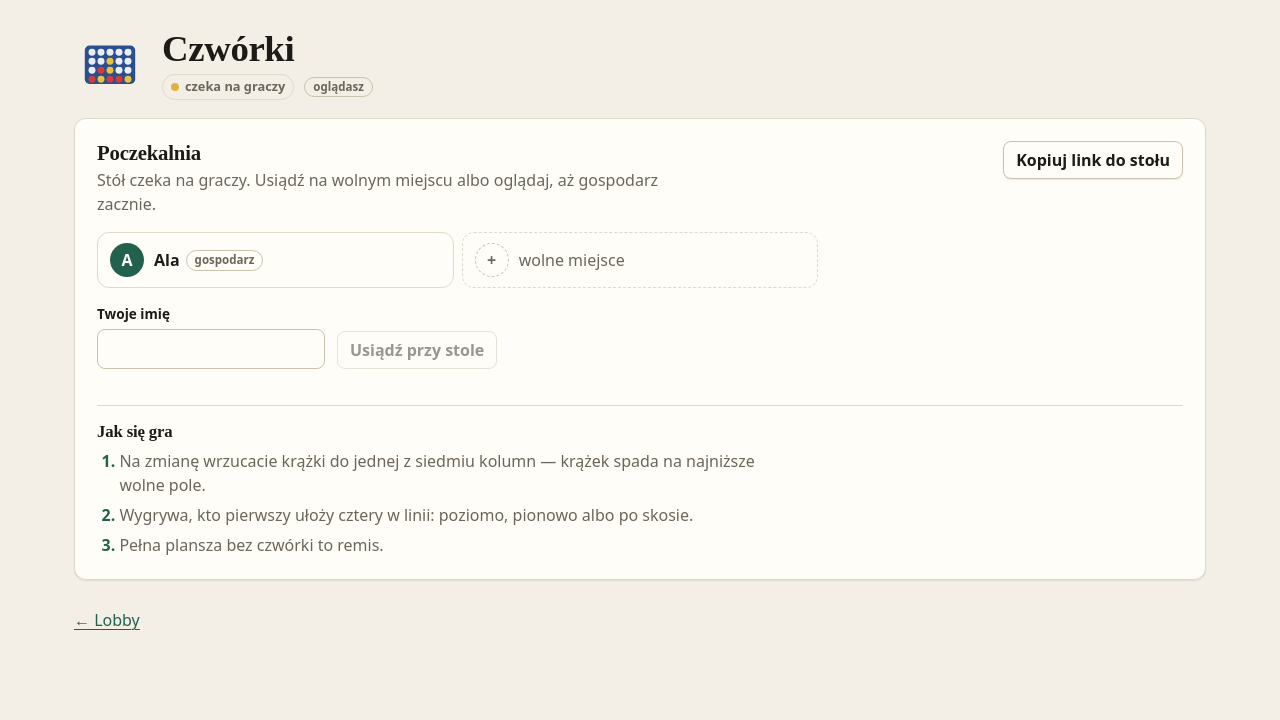
Test: sitting down when watching fails too › locks the join button until the server answers
This screenshot has width=1280, height=720.
Step 1. Type "Ola" into the field labelled "Twoje imię" → (211, 349), box [97,329,325,369]
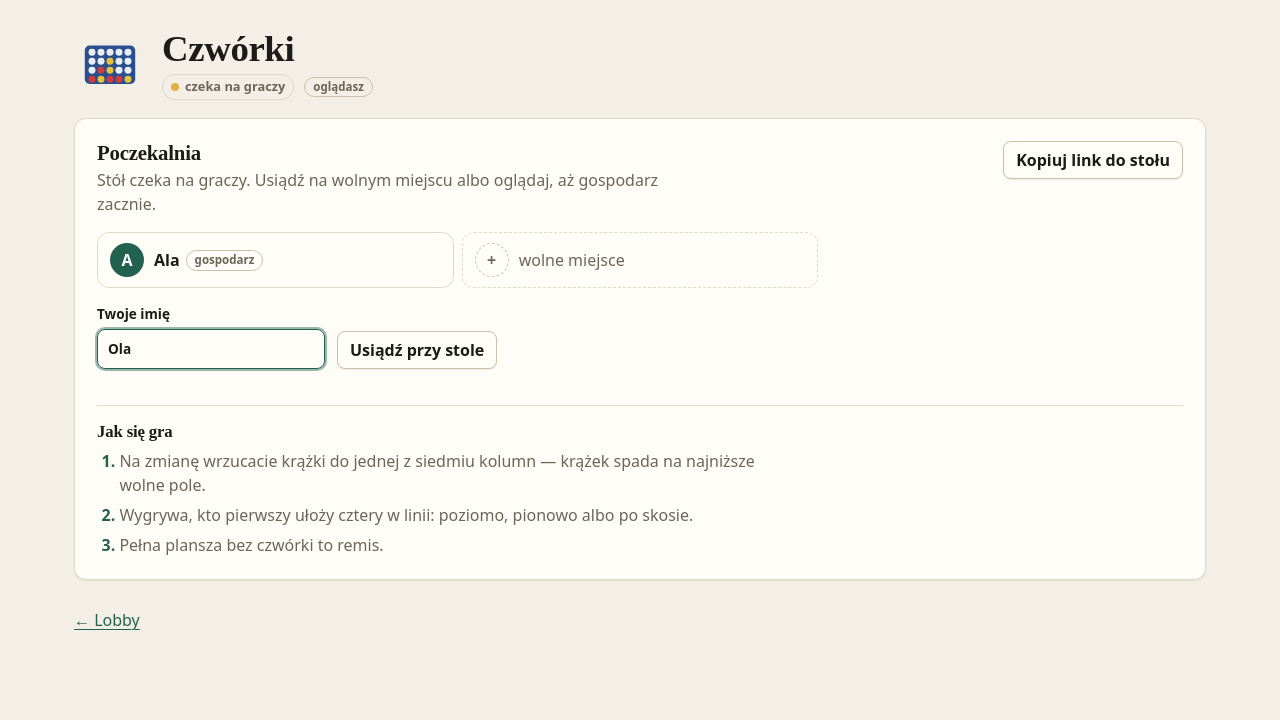
Step 2. Double-click the button "Usiądź przy stole" → (417, 350), box [337,331,497,369]
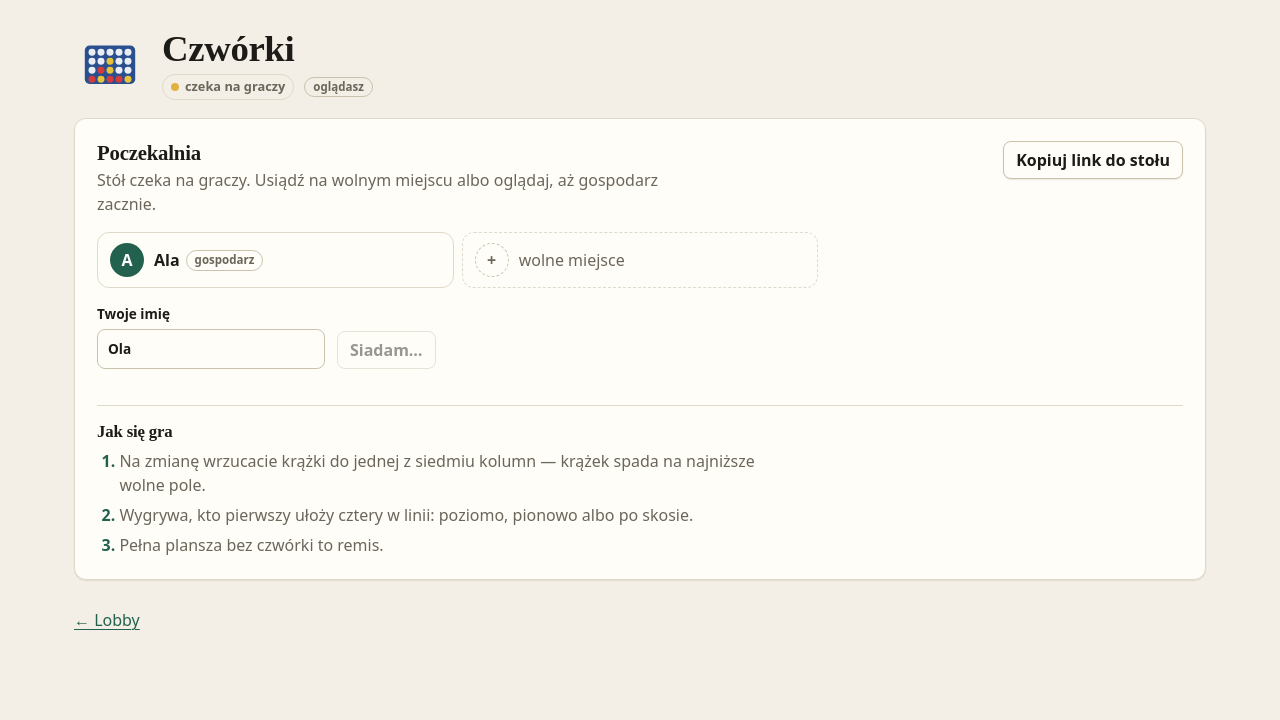
Result: the button "Siadam…" is disabled at [337,331,436,369]
Step 3. Submit the form "Siadam…", box [97,304,436,369]
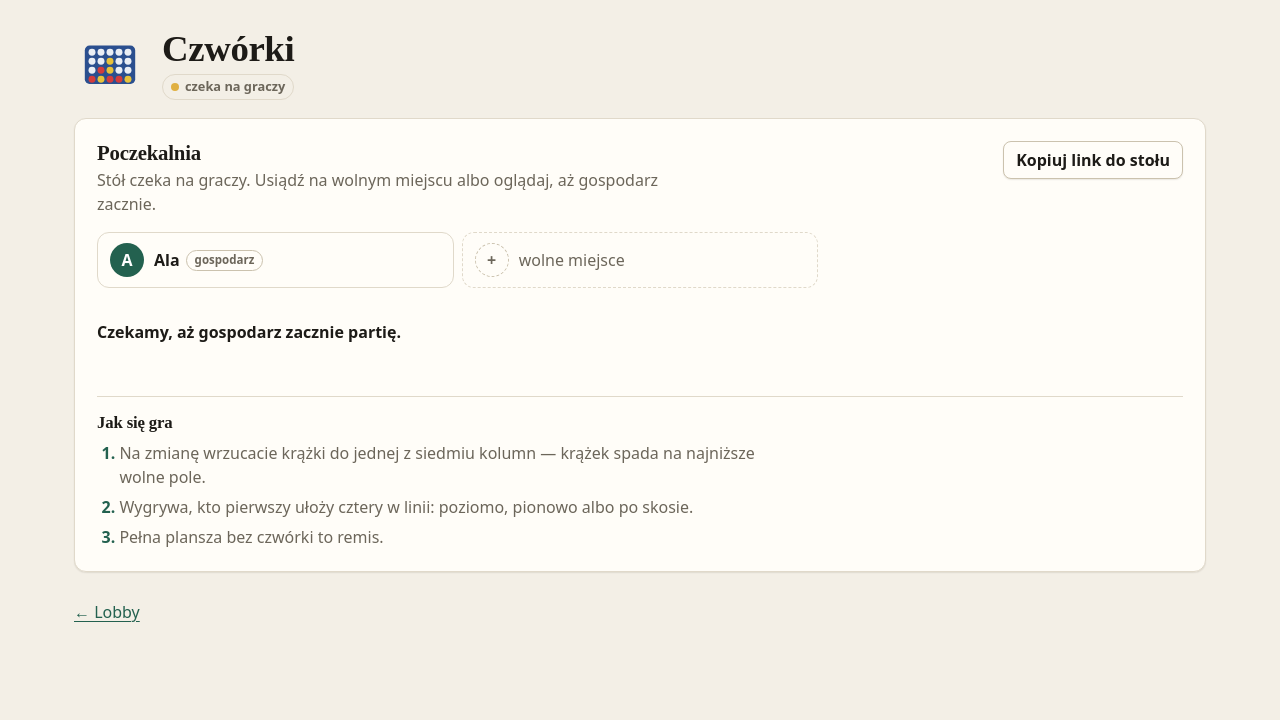
Result: the button "Siadam…" is gone
